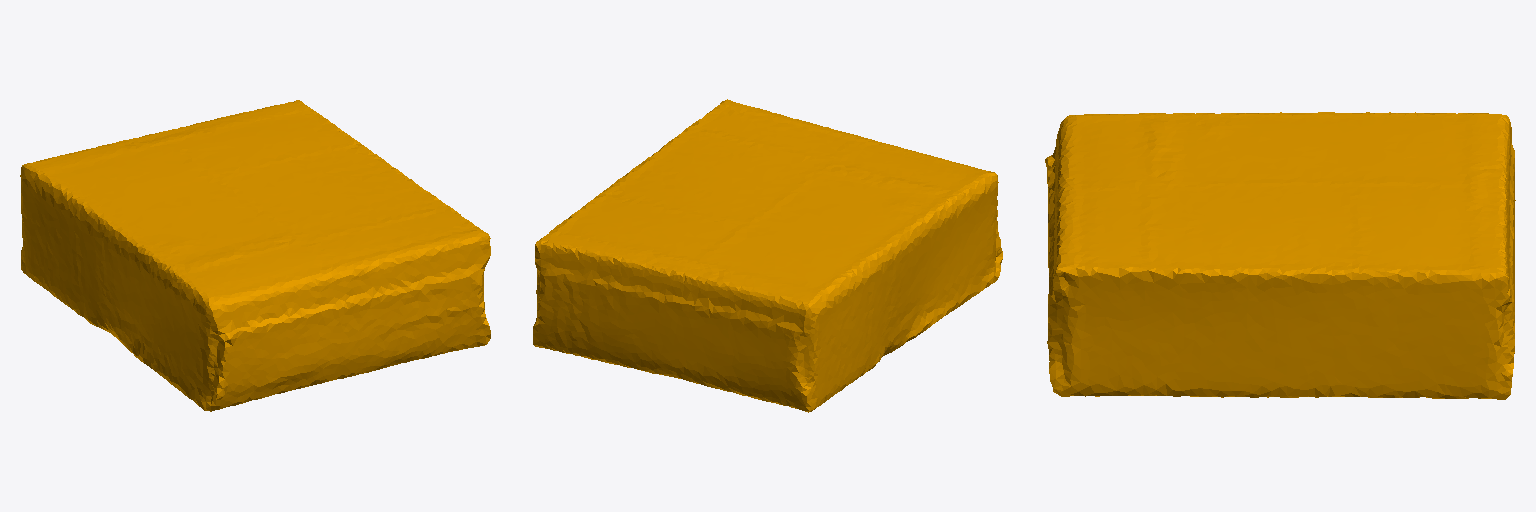
The robot description file, URDF, robot "GelatinBox.urdf":
<?xml version="1.0" ?>
<robot name="GelatinBox.urdf">
  <link name="baseLink">
    <contact>
      <lateral_friction value="0.5"/>
      <rolling_friction value="0.0"/>
      <contact_cfm value="0.0"/>
      <contact_erp value="1.0"/>
    </contact>
    <inertial>
      <origin rpy="0 0 0" xyz="0.0 0.0 0.0"/>
       <mass value=".1"/>
       <inertia ixx="1" ixy="0" ixz="0" iyy="1" iyz="0" izz="1"/>
    </inertial>
    <visual>
      <origin rpy="-1.57 0 0" xyz="0 0 0"/>
      <geometry>
        <mesh filename="textured_simple_reoriented.obj" scale="1.2 1.2 1.2"/> #scale="1 1 1"
      </geometry>
    </visual>
    <collision>
      <origin rpy="-1.57 0 0" xyz="0 0 0"/>
      <geometry>
	 <mesh filename="textured_simple_reoriented.obj" scale="1.2 1.2 1.2"/> #scale=".1 .1 .1"
      </geometry>
    </collision>
  </link>
</robot>

--- Render facts (derived) ---
3 views of the same robot in one strip: view 1: azimuth 30°, elevation 25°; view 2: azimuth 150°, elevation 25°; view 3: azimuth 270°, elevation 25° (orthographic).
Robot: GelatinBox.urdf — 1 links, 0 joints (none); root link baseLink; default pose: every joint at zero.
Visible links, largest first — view 1: baseLink; view 2: baseLink; view 3: baseLink.
Boxes of the visible links, x1=… form: baseLink: x1=20, y1=100, x2=490, y2=411; baseLink: x1=533, y1=99, x2=1002, y2=412; baseLink: x1=1045, y1=112, x2=1515, y2=399.
Size in the robot's own frame: 0.0876 by 0.107 by 0.0361 metres.
Meshes: 1 distinct files referenced, 1 mesh visuals loaded (1 OBJ).